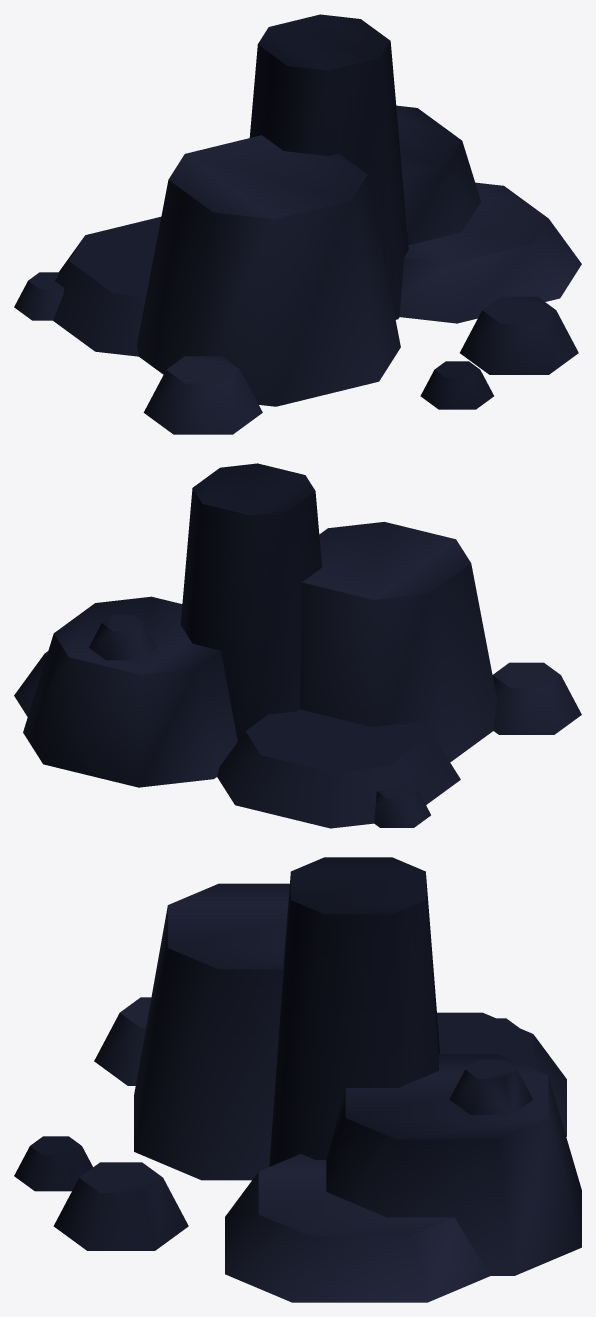
File: stones.obj
3 renders of one model, top to bottom at view 1: azimuth 30°, elevation 25°; view 2: azimuth 150°, elevation 25°; view 3: azimuth 270°, elevation 25°, orthographic. The views are drawn at different scales.
Visible parts, largest first — view 1: stones; view 2: stones; view 3: stones.
Part boxes in pixels (bbox=[...]): stones: bbox=[14, 14, 581, 434]; stones: bbox=[14, 463, 581, 828]; stones: bbox=[14, 857, 581, 1302].
Size of the model in its own units: 0.8924 by 0.4539 by 0.8045.
